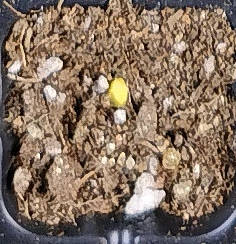pepper seed: (44, 23, 174, 130)
